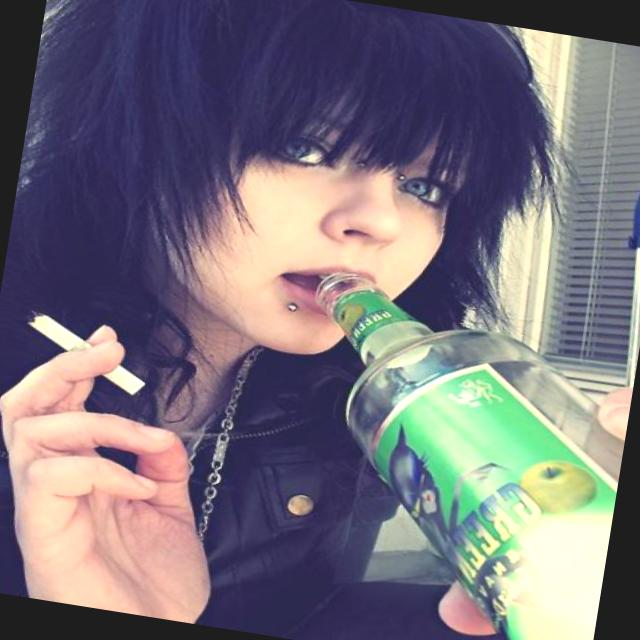smoke: (28, 307, 154, 398)
